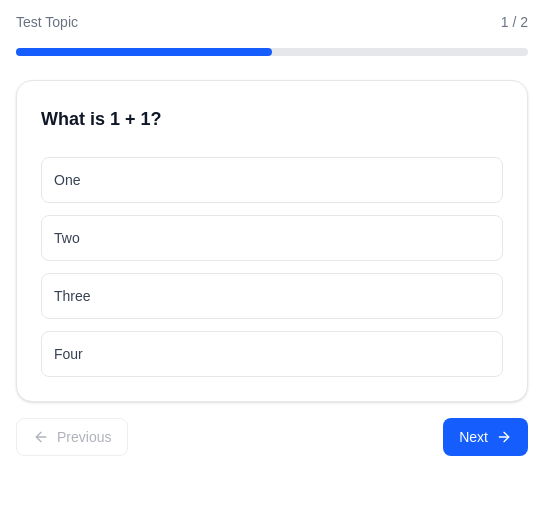
Test: QuizRunner › shows results after submitting all answers
Click the button "Two": coordinates (67, 238) 41,215 -> 503,261
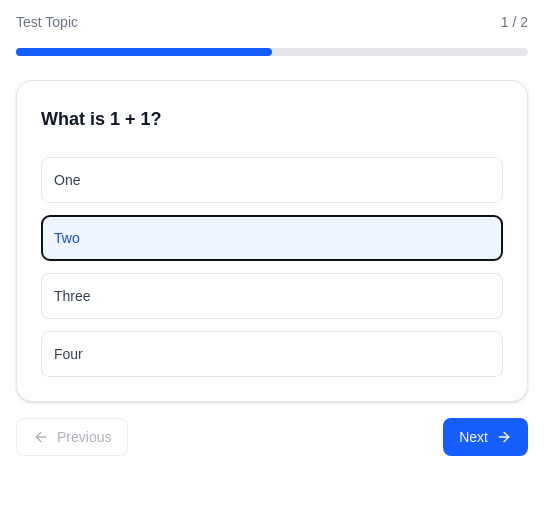
Click the button "Next": coordinates (486, 437) 443,418 -> 528,456
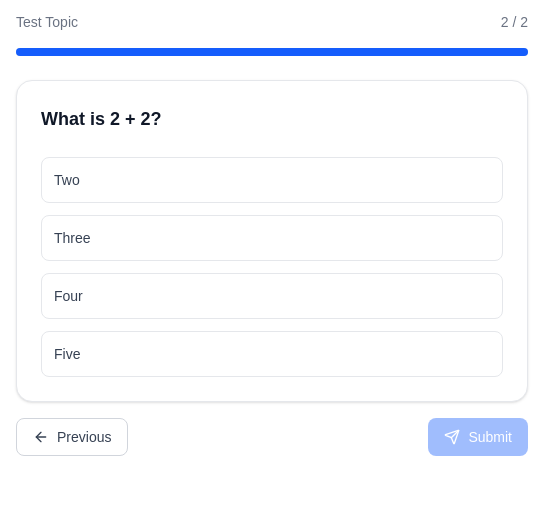
Click the button "Four": coordinates (68, 296) 41,273 -> 503,319
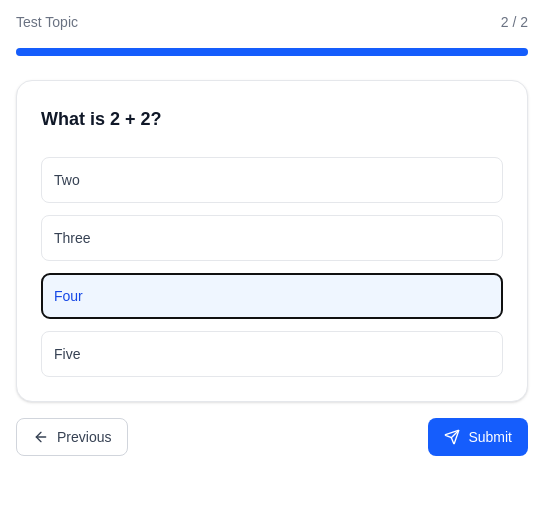
Click the button "Submit": coordinates (478, 437) 428,418 -> 528,456
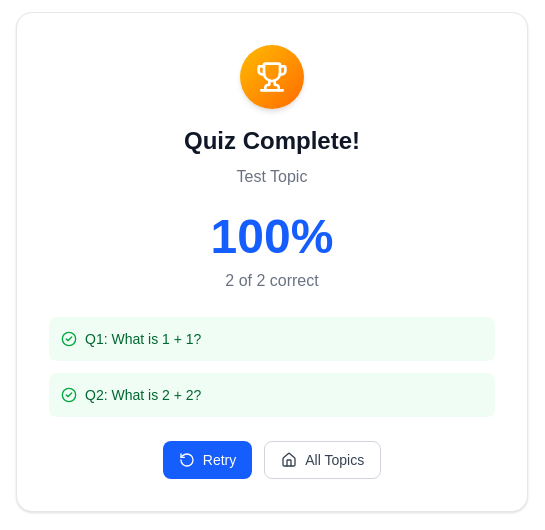
expect the heading "Quiz Complete!" is shown: met, box 184,127 -> 360,154
expect the text "100%" is shown: met, box 211,210 -> 333,263
expect the text "2 of 2 correct" is shown: met, box 225,272 -> 319,289
